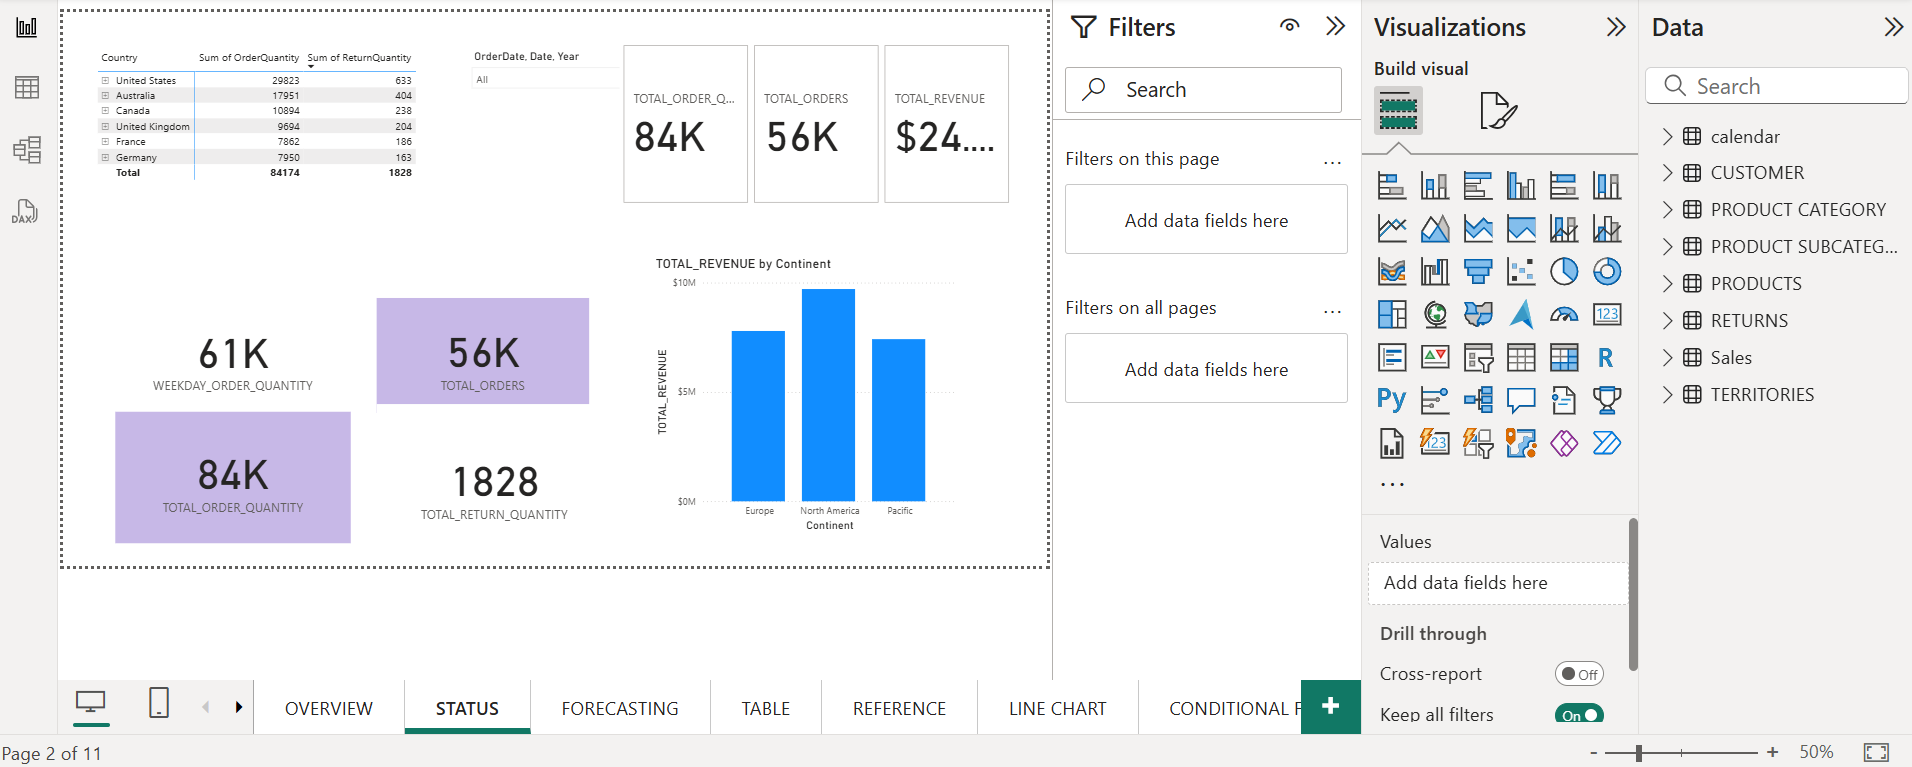

Layout of this report page (visuals, bound fields, positions):
{"tool":"powerbi","page":{"name":"STATUS","canvas":[1280,720],"ordinal":1},"visuals":[{"type":"pivotTable","fields":{"Rows":["TERRITORIES.Country","PRODUCTS.ProductName"],"Values":["Sum(Sales.OrderQuantity)","Sum(RETURNS.ReturnQuantity)"]},"box":[39.9,44.9,442.6,208],"z":0},{"type":"card","fields":{"Values":["Sales.WEEKDAY_ORDER_QUANTITY"]},"box":[0,341.1,442.6,211.3],"z":1000},{"type":"card","fields":{"Values":["Sales.TOTAL_ORDERS"]},"box":[407.7,371,276.2,149.8],"z":2000},{"type":"card","fields":{"Values":["Sales.TOTAL_ORDER_QUANTITY"]},"box":[68.2,520.8,306.2,171.4],"z":3000},{"type":"card","fields":{"Values":["RETURNS.TOTAL_RETURN_QUANTITY"]},"box":[407.7,510.8,306.2,209.7],"z":4000},{"type":"slicer","fields":{"Values":["Sales.OrderDate","calendar.Date","calendar.Date.Variation.Date Hierarchy.Year"]},"box":[522.5,44.5,320.1,136.4],"z":5000},{"type":"clusteredColumnChart","fields":{"Category":["TERRITORIES.GEOGRAPHY.Continent","TERRITORIES.GEOGRAPHY.Region","TERRITORIES.GEOGRAPHY.Country"],"Y":["Sales.TOTAL_REVENUE"]},"box":[765.4,317.8,401,362.7],"z":6000},{"type":"cardVisual","fields":{"Data":["Sales.TOTAL_ORDER_QUANTITY","Sales.TOTAL_ORDERS","Sales.TOTAL_REVENUE"]},"box":[723.5,37.3,512.4,215.3],"z":7000}]}

Visuals, with their boxes on the page's 1280x720 design canvas (x1, y1, x2, y2). These are canvas units, not pixel positions in the 1912x767 screenshot, which may show the page scaled, cropped or inside an application window:
pivotTable - TERRITORIES.Country x PRODUCTS.ProductName: pyautogui.locateOnScreen(40, 45, 482, 253)
card - Sales.WEEKDAY_ORDER_QUANTITY: pyautogui.locateOnScreen(0, 341, 443, 552)
card - Sales.TOTAL_ORDERS: pyautogui.locateOnScreen(408, 371, 684, 521)
card - Sales.TOTAL_ORDER_QUANTITY: pyautogui.locateOnScreen(68, 521, 374, 692)
card - RETURNS.TOTAL_RETURN_QUANTITY: pyautogui.locateOnScreen(408, 511, 714, 720)
slicer - Sales.OrderDate x calendar.Date: pyautogui.locateOnScreen(522, 44, 843, 181)
clusteredColumnChart - TERRITORIES.GEOGRAPHY.Continent x TERRITORIES.GEOGRAPHY.Region: pyautogui.locateOnScreen(765, 318, 1166, 680)
cardVisual - Sales.TOTAL_ORDER_QUANTITY x Sales.TOTAL_ORDERS: pyautogui.locateOnScreen(724, 37, 1236, 253)
